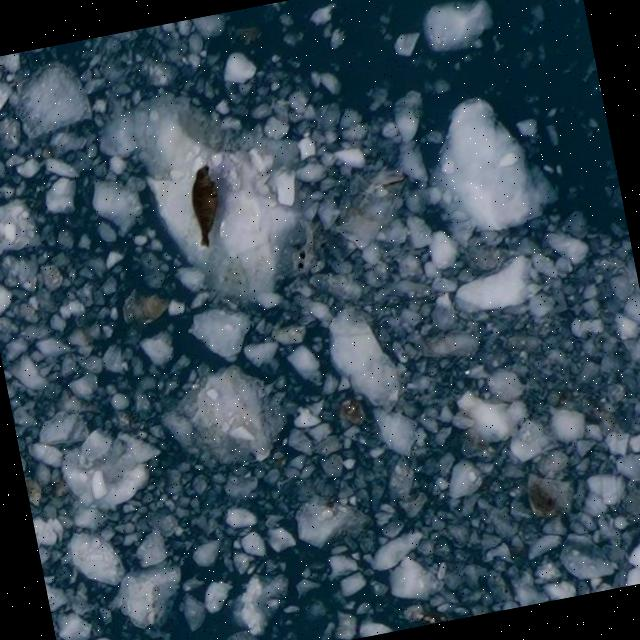seal: (190, 163, 220, 251)
